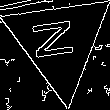N_E: (34, 18, 85, 66)
